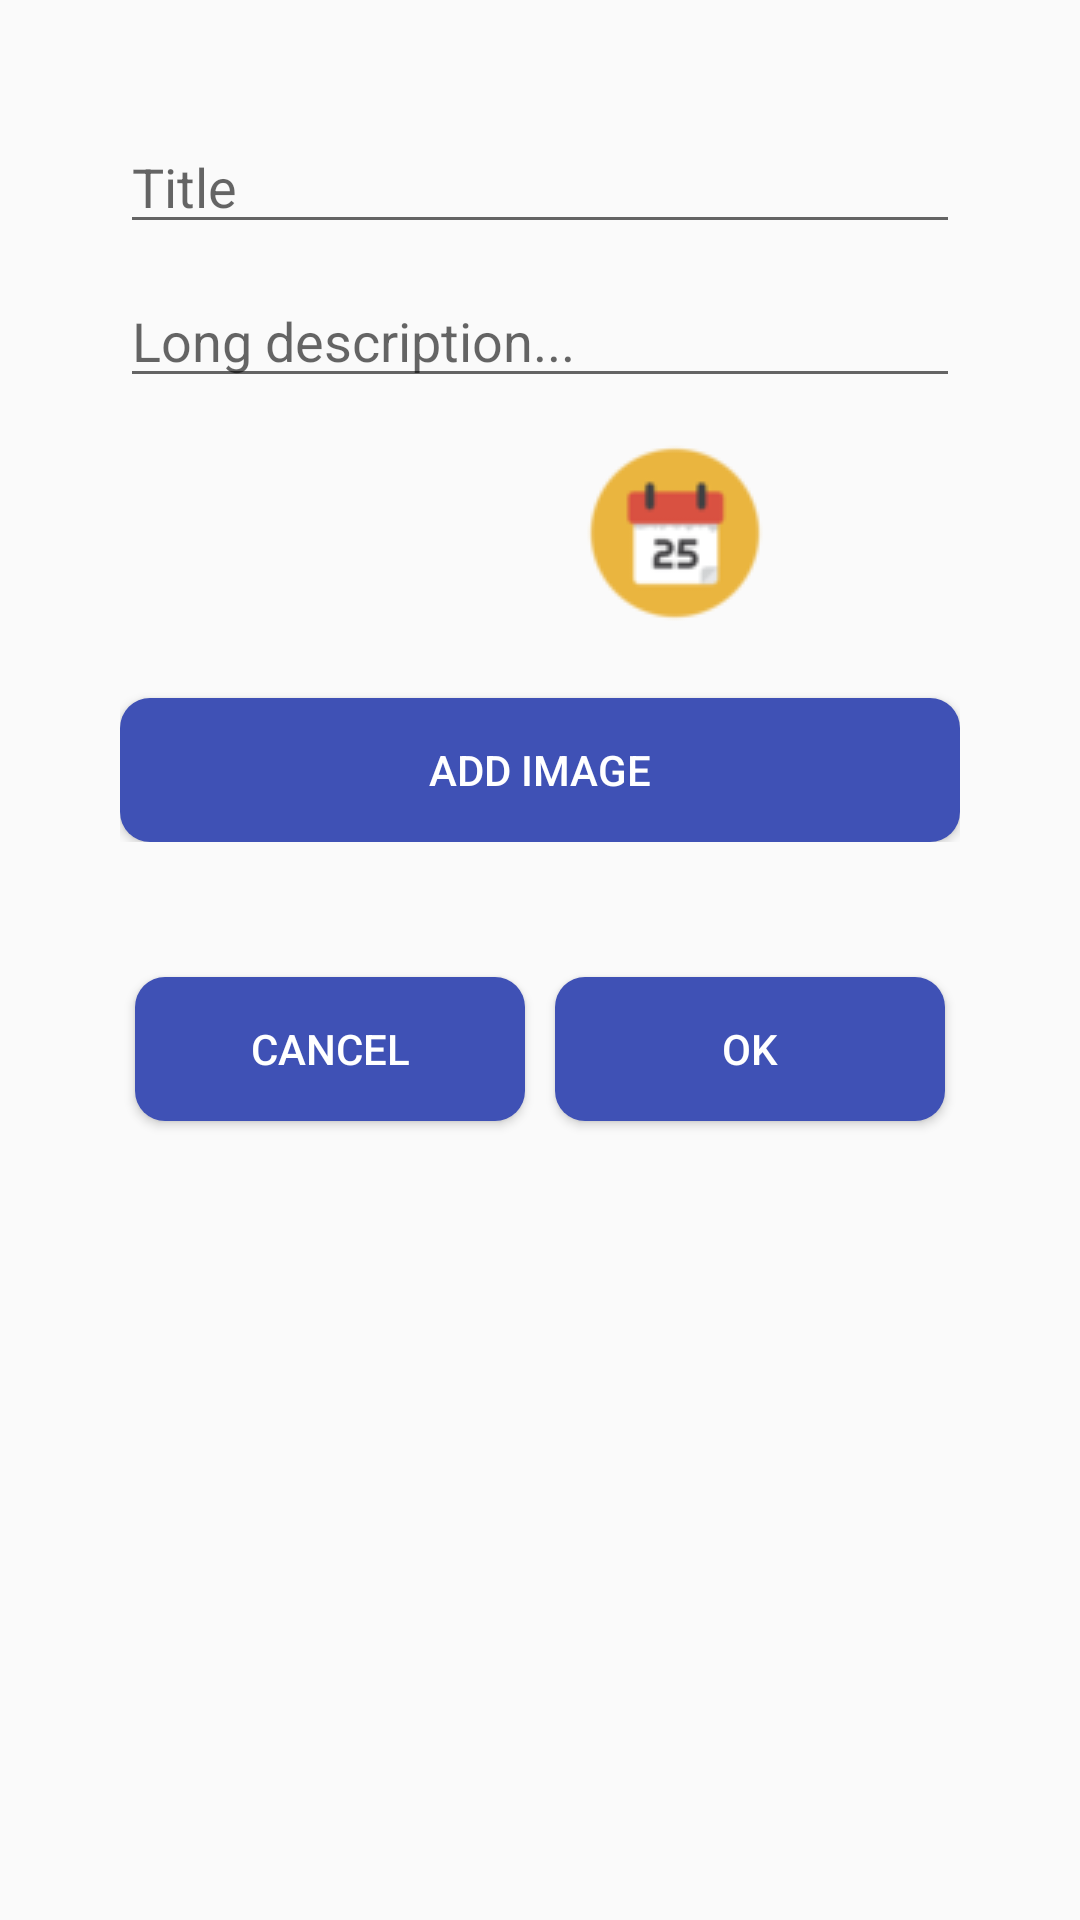

Point at icon controls on the screen. Image size 1080x1920, points as [x,y].
calendar: [675,533]
